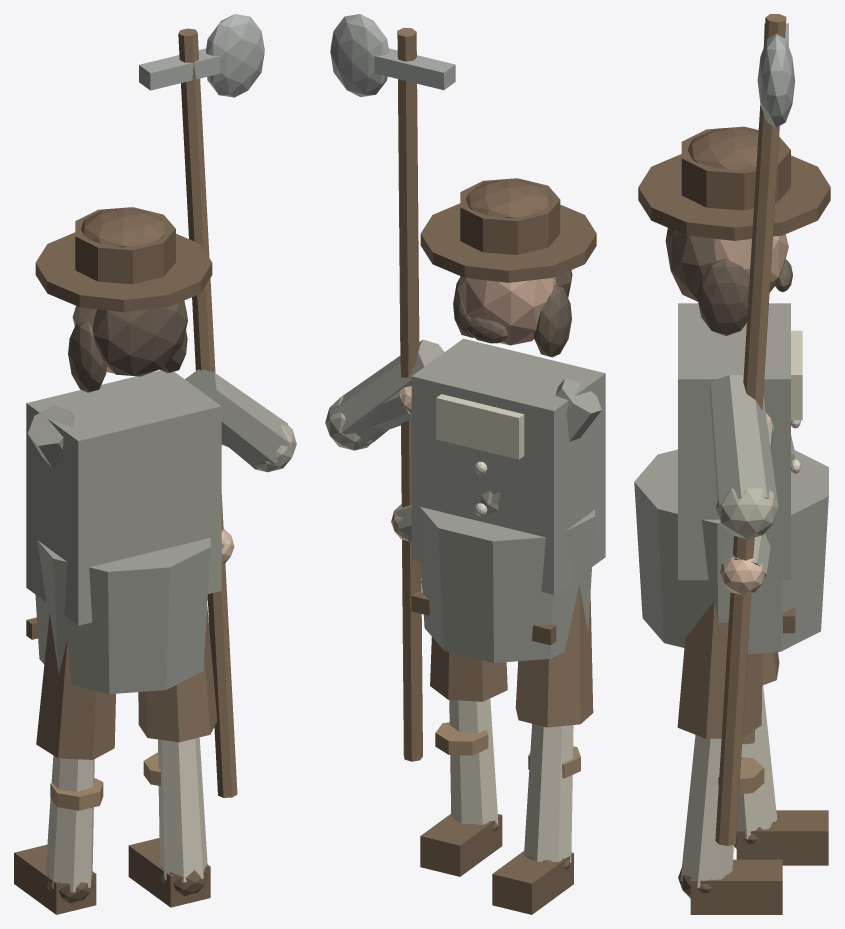
Rendered from cameronian_hodden_halberd_sergeant.glb.
The picture shows the model from 3 angles, left to right: view 1: azimuth 30°, elevation 25°; view 2: azimuth 150°, elevation 25°; view 3: azimuth 270°, elevation 25°; orthographic projection. The views are drawn at different scales.
Parts seen in each view (by area): view 1: hodden, leather, linen, brown, wood, hair, steel, leather_lt, hodden_lt; view 2: hodden, leather, linen, wood, brown, steel, skin, hair, leather_lt, hodden_lt; view 3: hodden, leather, wood, linen, brown, hair, steel, hodden_lt, skin, skin_light, leather_lt.
Part boxes in pixels (left/top/right/bottom): hodden: left=26, top=369, right=290, bottom=694; leather: left=14, top=207, right=212, bottom=914; linen: left=45, top=737, right=207, bottom=892; brown: left=36, top=607, right=217, bottom=759; wood: left=178, top=28, right=237, bottom=797; hair: left=68, top=300, right=187, bottom=392; steel: left=139, top=14, right=264, bottom=97; leather_lt: left=50, top=752, right=160, bottom=810; hodden_lt: left=251, top=425, right=296, bottom=472; hodden: left=333, top=338, right=605, bottom=662; leather: left=411, top=178, right=596, bottom=914; linen: left=436, top=394, right=573, bottom=862; wood: left=397, top=27, right=422, bottom=761; brown: left=430, top=585, right=593, bottom=727; steel: left=330, top=14, right=455, bottom=96; skin: left=457, top=276, right=556, bottom=345; hair: left=453, top=270, right=572, bottom=357; leather_lt: left=435, top=722, right=580, bottom=778; hodden_lt: left=325, top=396, right=498, bottom=514; hodden: left=634, top=303, right=828, bottom=654; leather: left=638, top=126, right=830, bottom=914; wood: left=715, top=14, right=786, bottom=845; linen: left=680, top=330, right=802, bottom=887; brown: left=677, top=600, right=779, bottom=738; hair: left=665, top=228, right=792, bottom=335; steel: left=757, top=23, right=795, bottom=127; hodden_lt: left=716, top=442, right=794, bottom=539; skin: left=714, top=234, right=788, bottom=292; skin_light: left=720, top=413, right=774, bottom=595; leather_lt: left=718, top=730, right=764, bottom=794.
Size of the model in its own units: 0.7069 by 2.14 by 0.4183.
